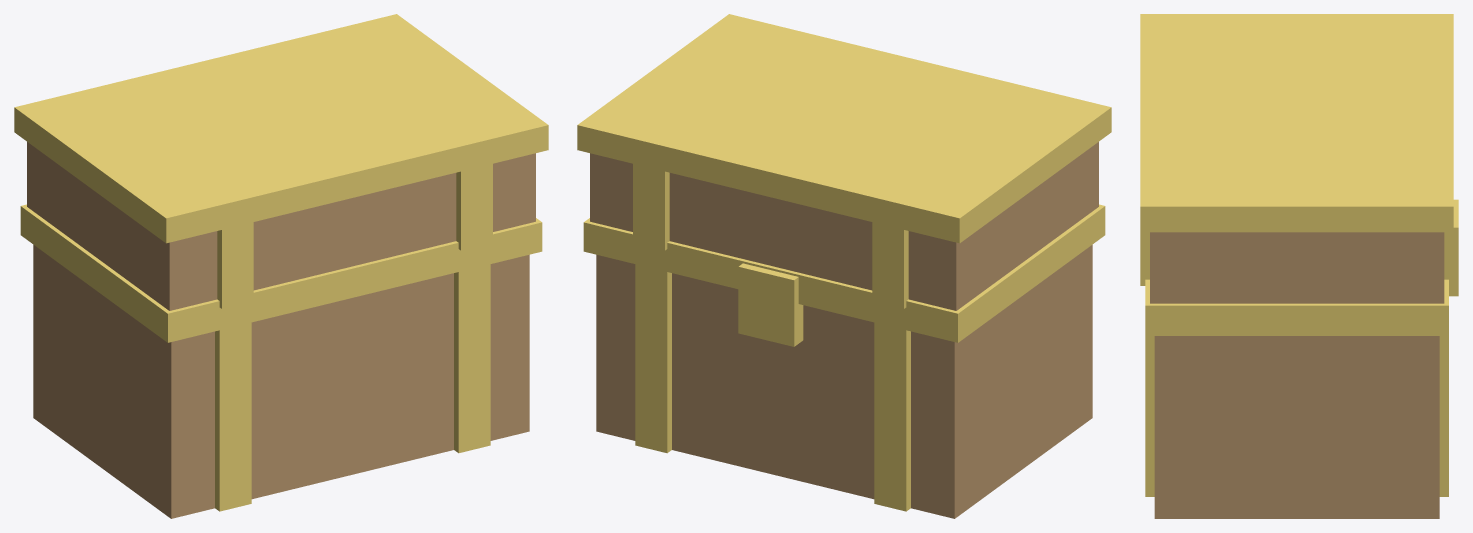
The model's file is chest.glb.
3 renders of one model, left to right at view 1: azimuth 30°, elevation 25°; view 2: azimuth 150°, elevation 25°; view 3: azimuth 270°, elevation 25°, orthographic. The views are drawn at different scales.
Visible parts, largest first — view 1: ChestChestLid, ChestChestBase; view 2: ChestChestLid, ChestChestBase; view 3: ChestChestLid, ChestChestBase.
Boxes of the visible parts, x1,y1,x2,y2 form: ChestChestLid: [14, 14, 548, 310]; ChestChestBase: [20, 204, 542, 518]; ChestChestLid: [577, 14, 1111, 310]; ChestChestBase: [583, 204, 1105, 518]; ChestChestLid: [1140, 14, 1453, 303]; ChestChestBase: [1145, 199, 1458, 518].
Size of what is drawn, in the model's own units: 0.96 by 0.74 by 0.67.
